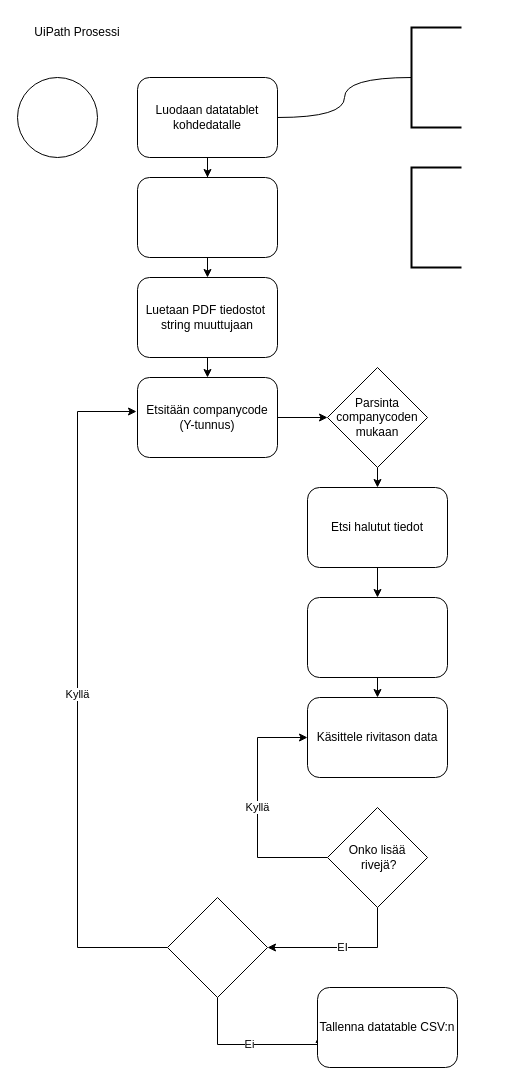
Some shapes in this 524 by 1085 pixel diagram are drawn without their labels. The shapes that lost their labels are listed below. From the top down, each one's centre as x and y in pixels, then its label:
(x=436, y=77): dt_invoiceHeader dt_InvoiceRow
(x=207, y=217): Luetaan PDF tiedostot alkuhakemistosta
(x=377, y=637): Etsi rivitason data
(x=217, y=947): Onko lisää laskuja?
